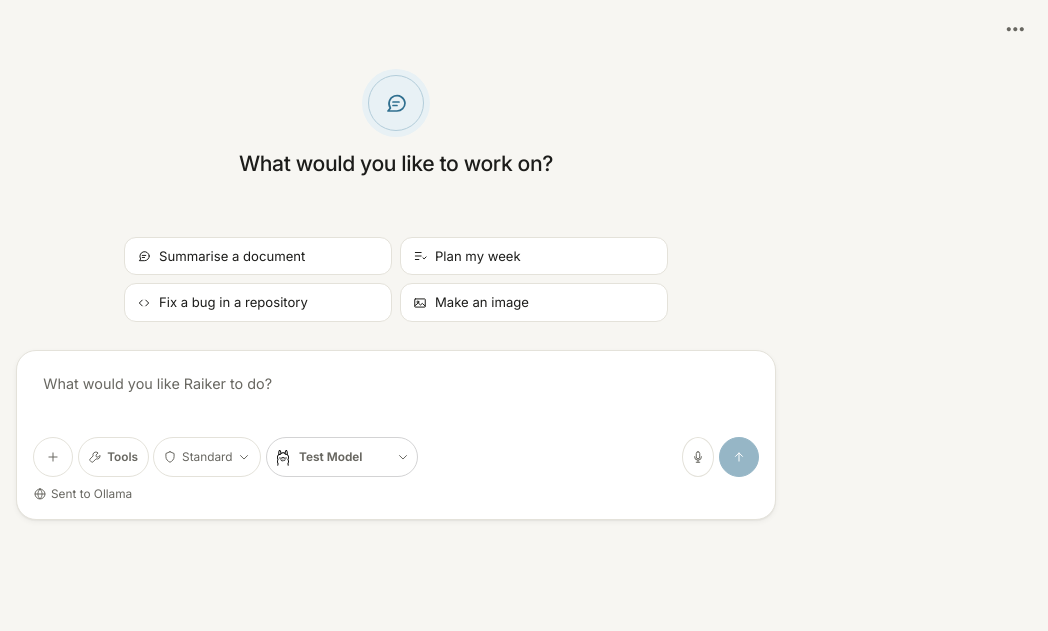
ChatView composer — commands, mentions and message actions › narrows the menu as the command is typed
Type "/mod" into the text box named "Prompt".
click(396, 396); type("/mod")  # box [33,367,759,425]
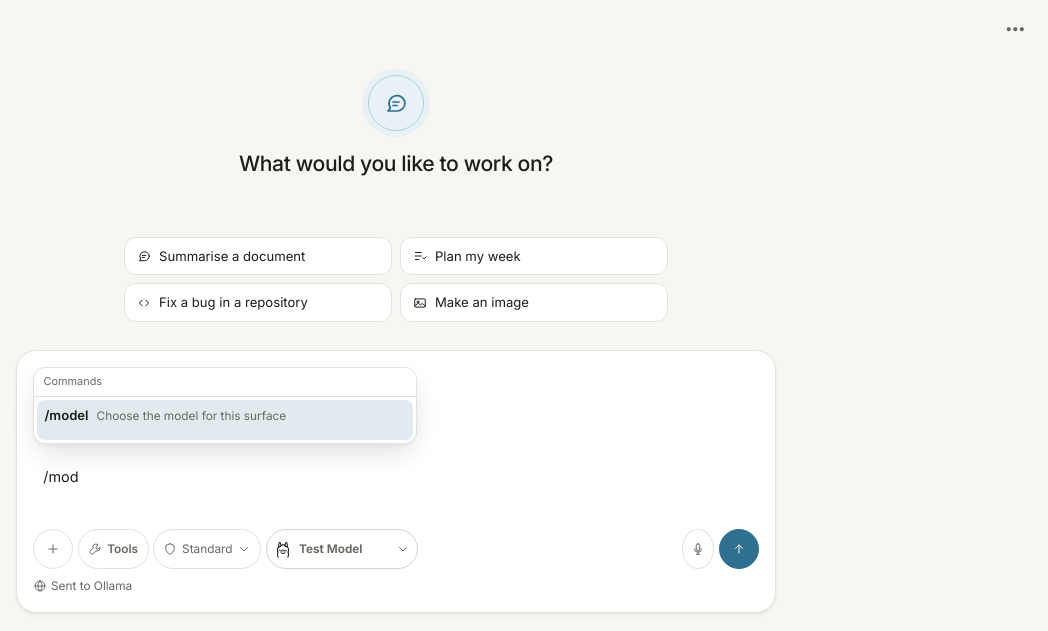
Expected: the text "/model" is shown, [44,405,88,425]
